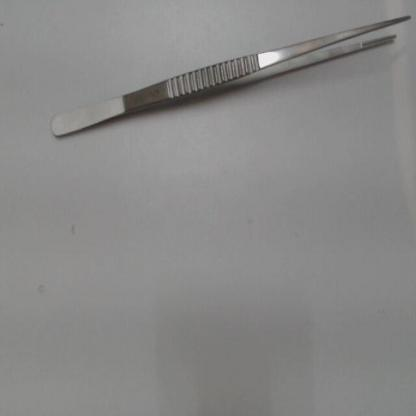DeBakey Dissector: (40, 5, 412, 162)
